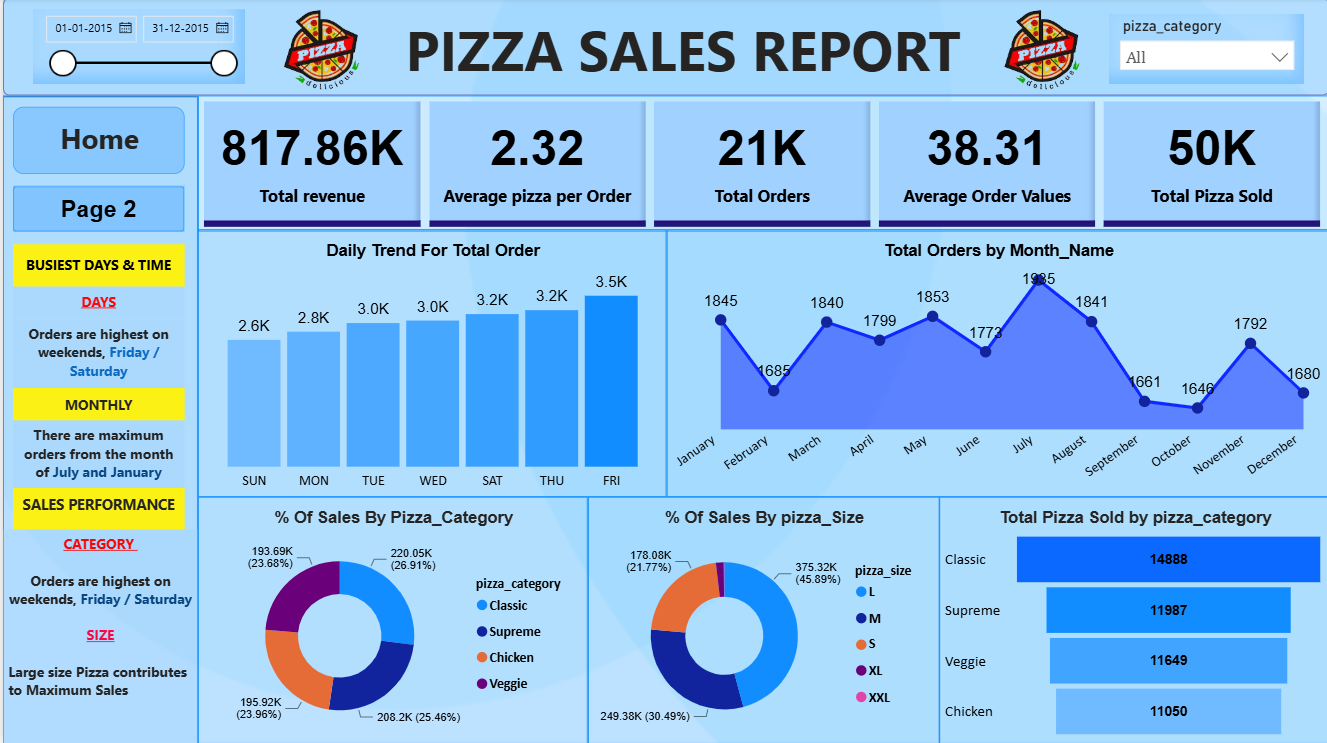

This screenshot's page, from the dashboard's own definition file:
{"tool":"powerbi","page":{"name":"Page 1","canvas":[1280,720],"ordinal":0},"visuals":[{"type":"shape","box":[0,0,1279.6,94.1],"z":0},{"type":"textbox","box":[306.3,0,717.6,94.1],"z":1000},{"type":"shape","box":[0,94.1,188.1,625.9],"z":2000},{"type":"textbox","box":[9.6,104.9,165.2,65.1],"z":3000},{"type":"cardVisual","fields":{"Data":["pizza_sales.Total revenue","pizza_sales.Average pizza per Order","pizza_sales.Total Orders","pizza_sales.Average Order Values","pizza_sales.Total Pizza Sold"]},"box":[188.1,94.1,1091.5,131.5],"z":4000},{"type":"columnChart","title":"Daily Trend For Total Order","fields":{"Category":["pizza_sales.Order_Day"],"Y":["pizza_sales.Total Orders"]},"box":[188.1,223.1,452.3,258.1],"z":5000},{"type":"areaChart","fields":{"Y":["pizza_sales.Total Orders"],"Category":["pizza_sales.Month_Name"]},"box":[640.4,223.1,639.2,258.1],"z":6000},{"type":"donutChart","title":"% Of Sales By Pizza_Category","fields":{"Category":["pizza_sales.pizza_category"],"Y":["pizza_sales.Total revenue"]},"box":[188.1,481.2,376.3,238.8],"z":7000},{"type":"donutChart","title":"% Of Sales By pizza_Size","fields":{"Category":["pizza_sales.pizza_size"],"Y":["pizza_sales.Total revenue"]},"box":[564.4,481.2,338.9,238.8],"z":8000},{"type":"funnel","fields":{"Category":["pizza_sales.pizza_category"],"Y":["pizza_sales.Total Pizza Sold"]},"box":[903,481.2,377,238],"z":9000},{"type":"image","box":[234,0,145.9,104.9],"z":10000},{"type":"image","box":[946.7,0,111,104.9],"z":11000},{"type":"actionButton","box":[9.6,180.9,165.2,44.6],"z":12000},{"type":"textbox","box":[9.6,237.6,165.2,41],"z":13000},{"type":"textbox","box":[9.6,278.6,165.2,31.4],"z":14000},{"type":"textbox","box":[9.6,309.9,165.2,66.3],"z":15000},{"type":"textbox","box":[9.6,376.3,165.2,31.4],"z":16000},{"type":"textbox","box":[9.6,407.6,165.2,82],"z":17000},{"type":"textbox","box":[9.6,472.8,165.2,39.8],"z":18000},{"type":"slicer","fields":{"Values":["pizza_sales.pizza_category"]},"box":[1067.3,16,188,67.5],"z":19000},{"type":"slicer","fields":{"Values":["pizza_sales.order_date"]},"box":[28.9,10.9,205,72.4],"z":20000},{"type":"textbox","box":[0,512.6,188.1,206.2],"z":22000}]}

Visuals, with their boxes in screenshot pixels (x1, y1, x2, y2), scaled from the page's 1280x720 canvas onto the 1327x743 screenshot:
shape: (0,0,1326,97)
textbox: (318,0,1061,97)
shape: (0,97,195,742)
textbox: (10,108,181,175)
cardVisual - pizza_sales.Total revenue x pizza_sales.Average pizza per Order: (195,97,1326,233)
"Daily Trend For Total Order" columnChart: (195,230,664,497)
areaChart - pizza_sales.Total Orders x pizza_sales.Month_Name: (664,230,1326,497)
"% Of Sales By Pizza_Category" donutChart: (195,497,585,742)
"% Of Sales By pizza_Size" donutChart: (585,497,936,742)
funnel - pizza_sales.pizza_category x pizza_sales.Total Pizza Sold: (936,497,1326,742)
image: (243,0,394,108)
image: (981,0,1097,108)
actionButton: (10,187,181,233)
textbox: (10,245,181,287)
textbox: (10,287,181,320)
textbox: (10,320,181,388)
textbox: (10,388,181,421)
textbox: (10,421,181,505)
textbox: (10,488,181,529)
slicer - pizza_sales.pizza_category: (1106,17,1301,86)
slicer - pizza_sales.order_date: (30,11,242,86)
textbox: (0,529,195,742)
